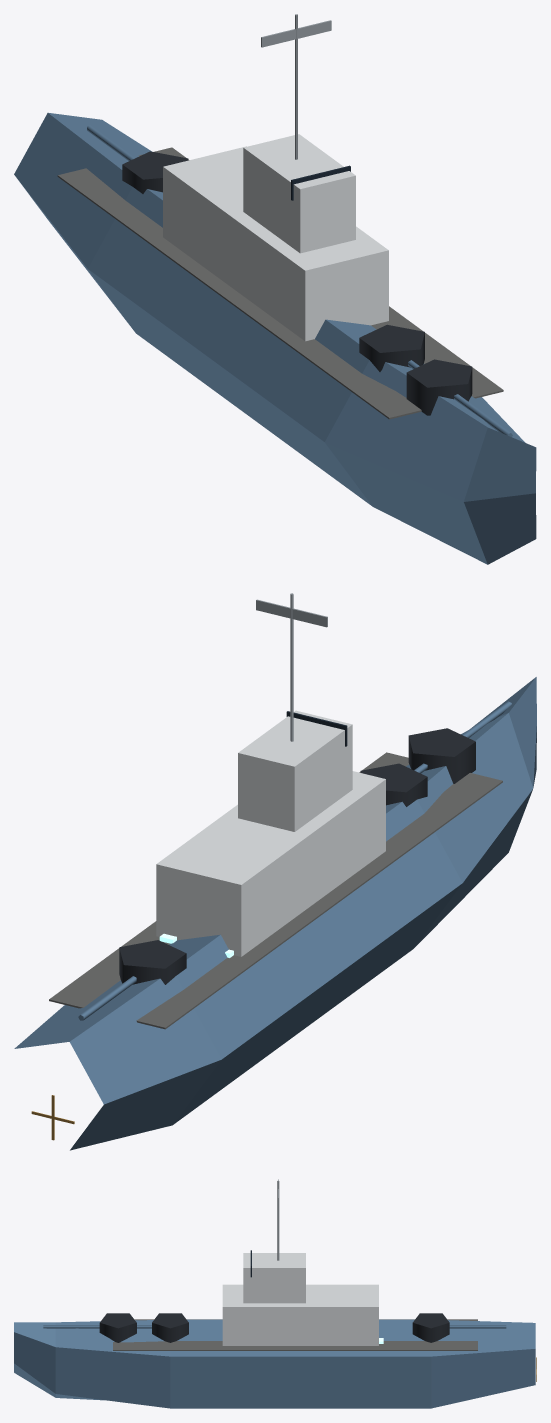
File: veh_naval_warship_a10_lod1.glb
The picture shows the model from 3 angles, top to bottom: view 1: azimuth 30°, elevation 25°; view 2: azimuth 150°, elevation 25°; view 3: azimuth 270°, elevation 25°; orthographic projection. The views are drawn at different scales.
Visible parts, largest first — view 1: body, turret_0, turret_1, turret_2, radar; view 2: body, turret_0, turret_2, turret_1, radar; view 3: body, turret_2, turret_0, turret_1.
Boxes of the visible parts, x1,y1,x2,y2 form: body: (14, 14, 536, 564); turret_0: (406, 359, 512, 437); turret_1: (359, 324, 463, 403); turret_2: (87, 125, 188, 193); radar: (261, 20, 331, 47); body: (14, 593, 536, 1150); turret_0: (408, 701, 511, 783); turret_2: (78, 940, 186, 1020); turret_1: (360, 763, 427, 806); radar: (256, 599, 327, 627); body: (14, 1180, 535, 1408); turret_2: (412, 1313, 506, 1342); turret_0: (43, 1313, 136, 1342); turret_1: (95, 1313, 188, 1342).
Bounding box in the file's own units: 6.76 × 21.13 × 43.83.
